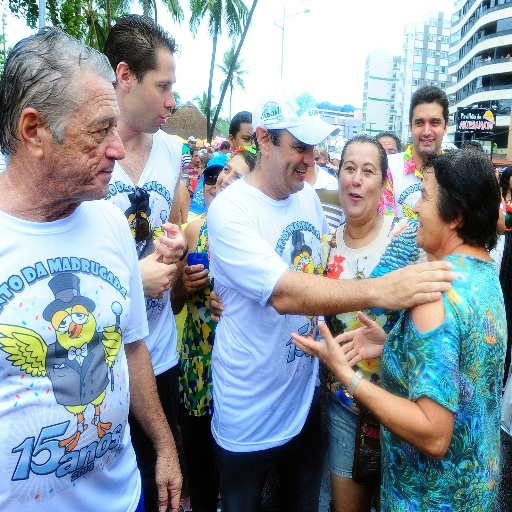hand: (379, 258, 457, 309), (290, 319, 348, 373), (335, 311, 388, 369), (137, 249, 177, 302), (154, 448, 184, 511), (152, 221, 185, 264), (177, 264, 211, 295), (206, 291, 224, 324)
